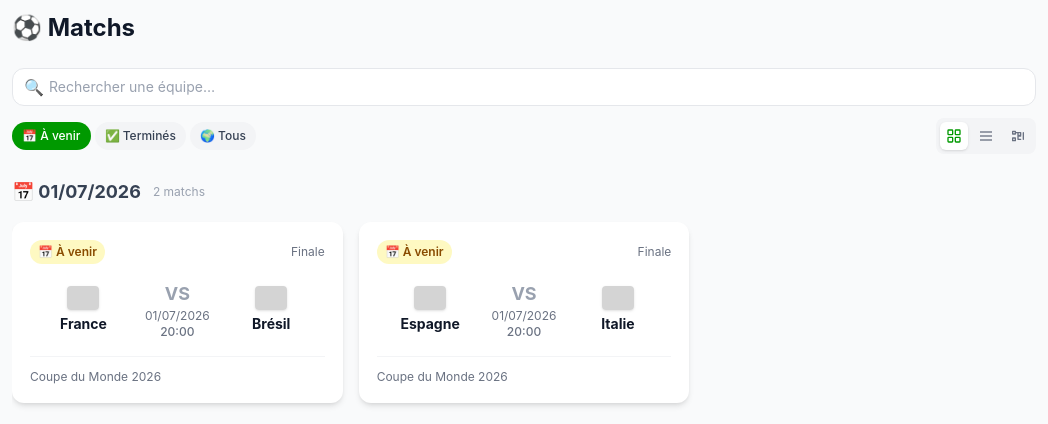
Test: Matches — recherche › filtre par nom d'équipe (case-insensitive)
In the field with placeholder "Rechercher une équipe…": [524, 87] box top-left (12, 68), bottom-right (1036, 106), type "france"
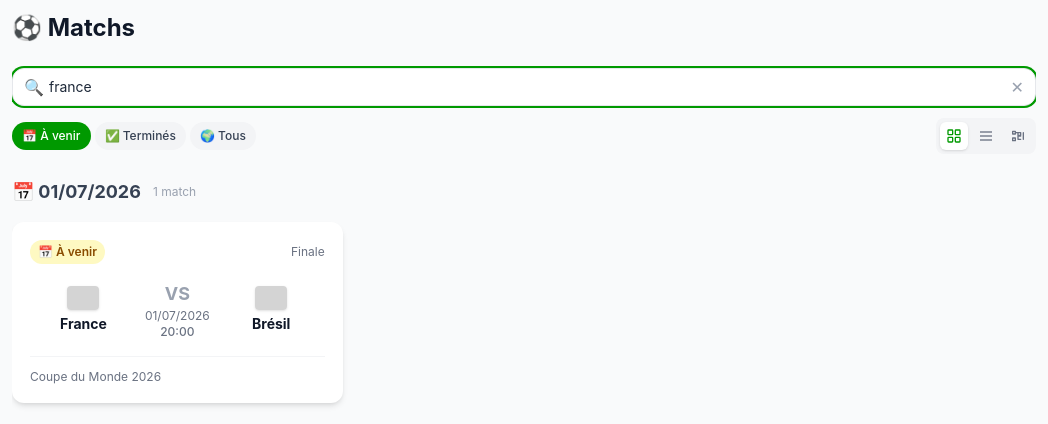
Check: the text "France" is shown, box top-left (60, 315), bottom-right (107, 332)
Check: the link "Espagne" is gone
